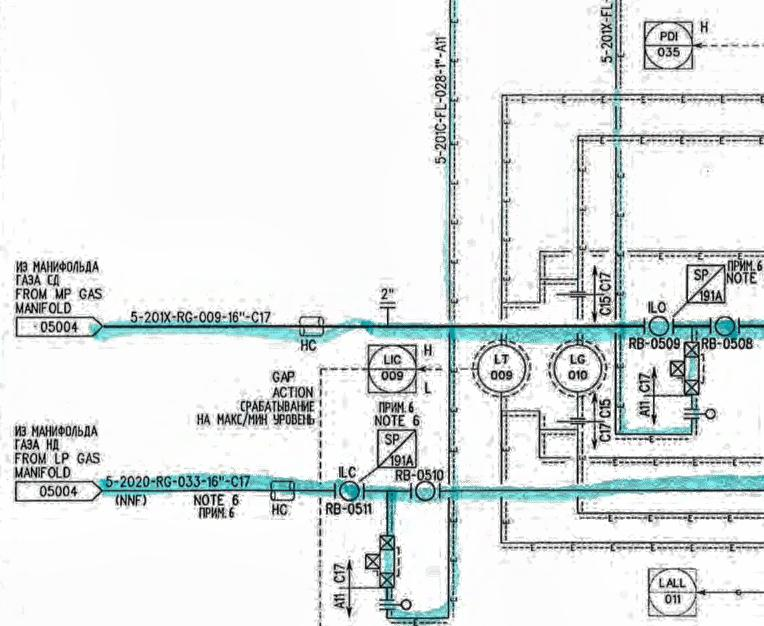2 WAY VALVE: (359, 526, 403, 590), (667, 337, 705, 396)
BLIND SPADE OPEN: (676, 401, 722, 427), (372, 592, 419, 616)
DCS ACCESSIBLE: (361, 336, 426, 399), (643, 561, 702, 623)
DUPLEX RECEPTACLE: (292, 312, 333, 341), (263, 476, 301, 505)
END FLANGED: (561, 412, 594, 433), (566, 286, 588, 305), (375, 301, 401, 311)
FIELD INSTRUMENT: (469, 334, 534, 403), (548, 335, 608, 399), (410, 473, 441, 504), (336, 476, 364, 506), (642, 313, 674, 336), (711, 315, 740, 338)
SPECIAL PIPING ITEM: (682, 257, 731, 310), (371, 424, 420, 472)
